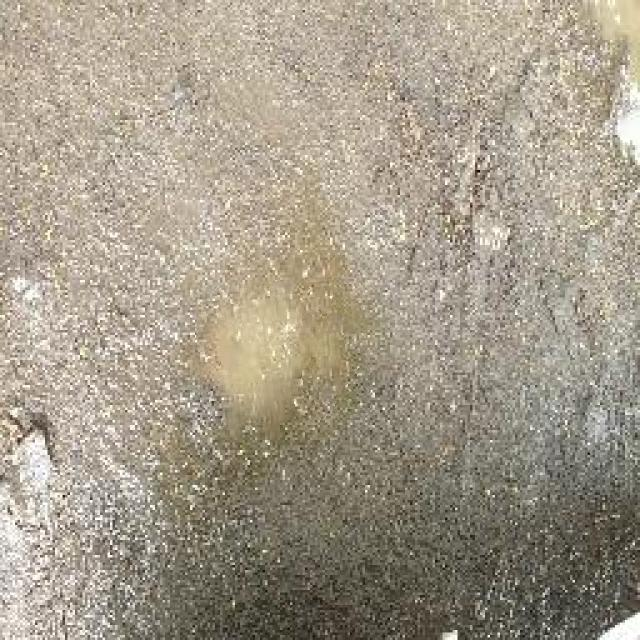puddle: (196, 278, 371, 428)
